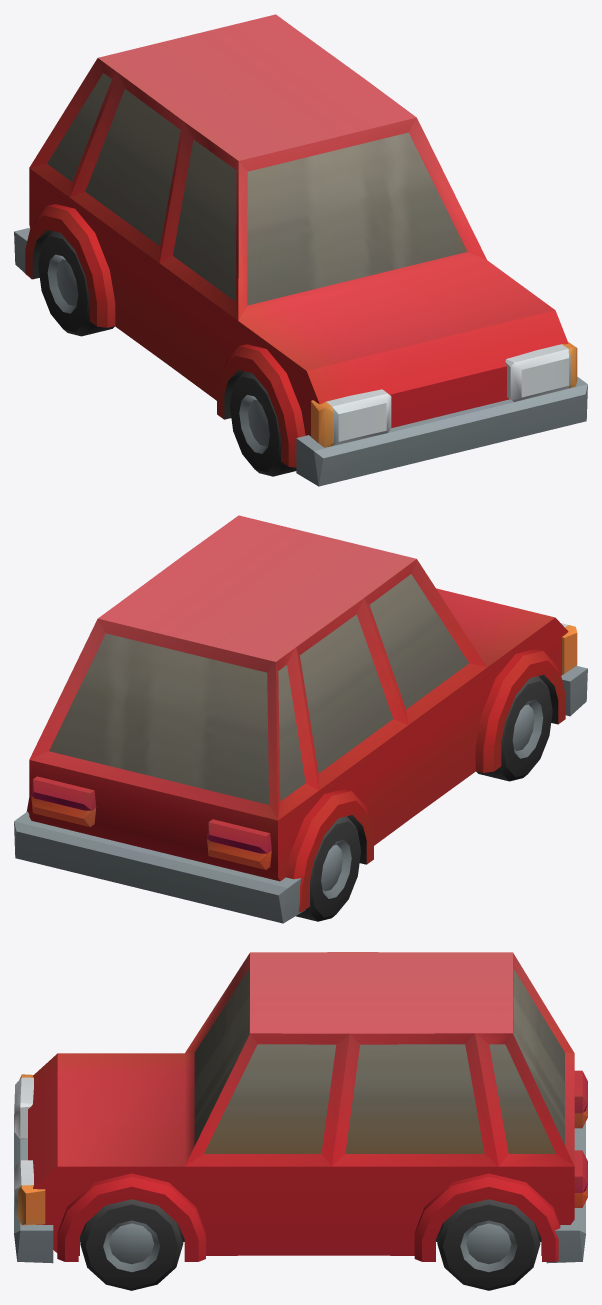
Rendered from kay-hatch.gltf.
3 renders of one model, top to bottom at view 1: azimuth 30°, elevation 25°; view 2: azimuth 150°, elevation 25°; view 3: azimuth 270°, elevation 25°, orthographic. The views are drawn at different scales.
Parts seen in each view (by area): view 1: car_hatchback; view 2: car_hatchback; view 3: car_hatchback.
Part boxes in pixels (bbox=[...]): car_hatchback: bbox=[14, 14, 587, 486]; car_hatchback: bbox=[14, 515, 587, 923]; car_hatchback: bbox=[14, 952, 587, 1290].
Bounding box in the file's own units: 2.09 × 1.84 × 4.03.
Materials: 1 (1 with a texture image).
